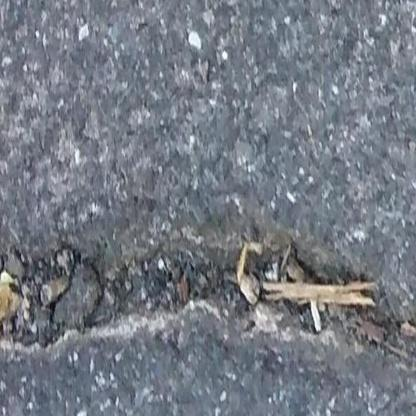Cracks: (0, 246, 416, 368)
